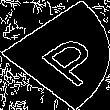P_NW: (13, 24, 98, 86)
